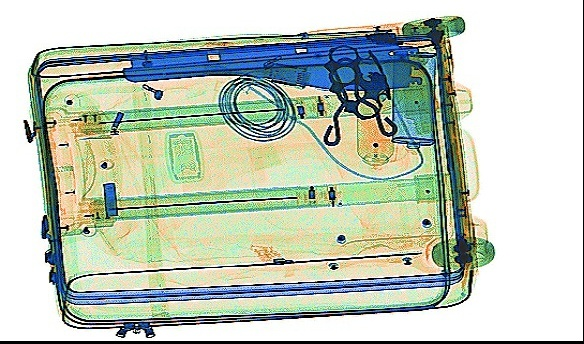pressure: (354, 84, 396, 170)
slingshot: (321, 58, 396, 146)
zippooil: (388, 52, 437, 153)
